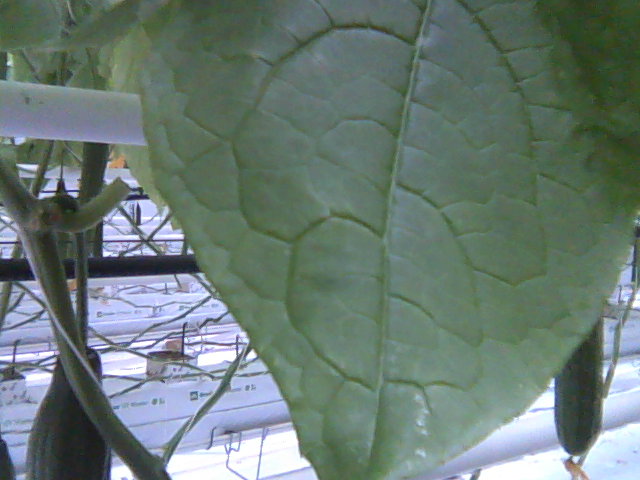concombre: (19, 325, 116, 480), (552, 312, 610, 480)
